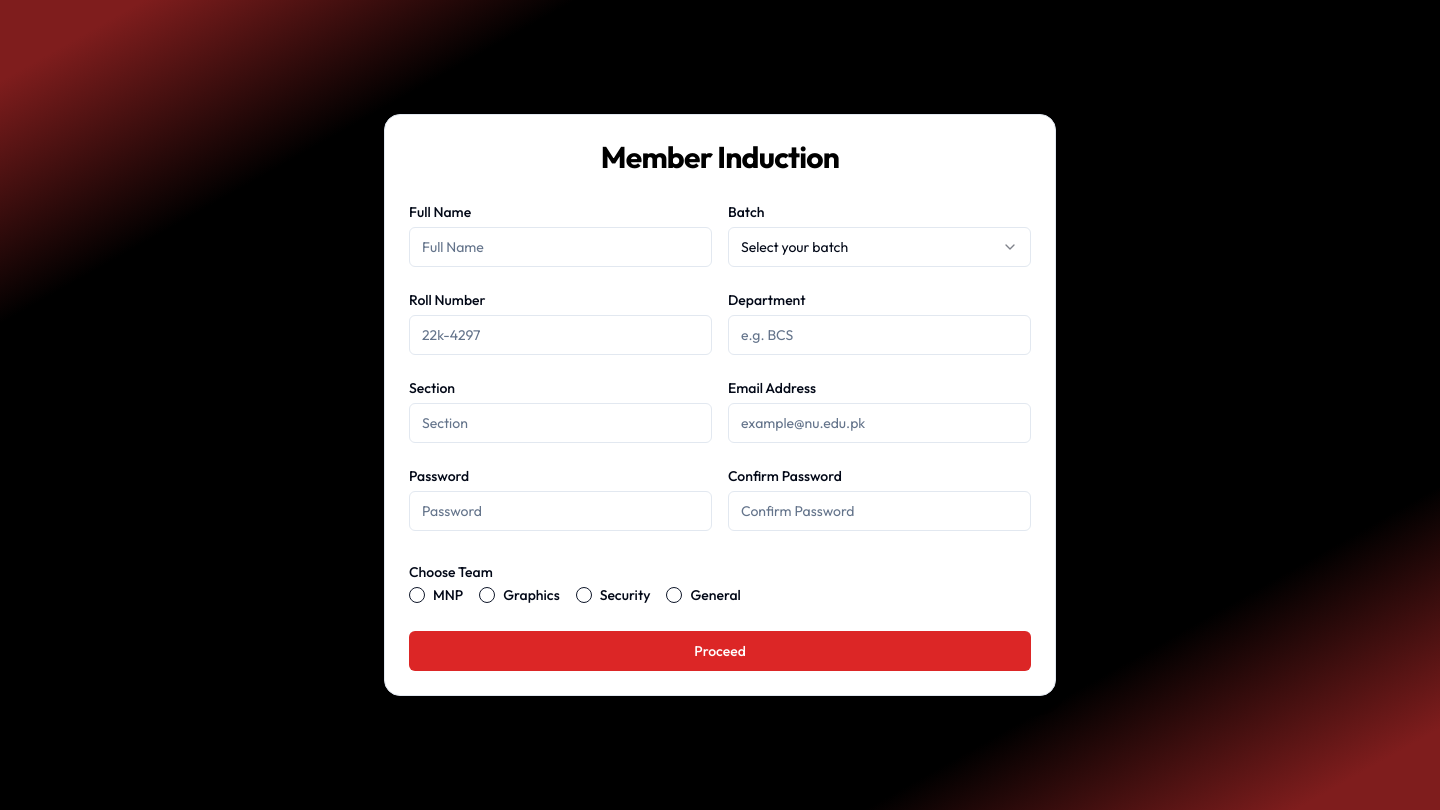
Test: Register Form Validation › should show error for invalid email domain
This screenshot has width=1440, height=810.
Type "user@gmail.com" into the field with placeholder "example@nu.edu.pk".
click(880, 423); type("user@gmail.com")  # box x1=728 y1=403 x2=1031 y2=443
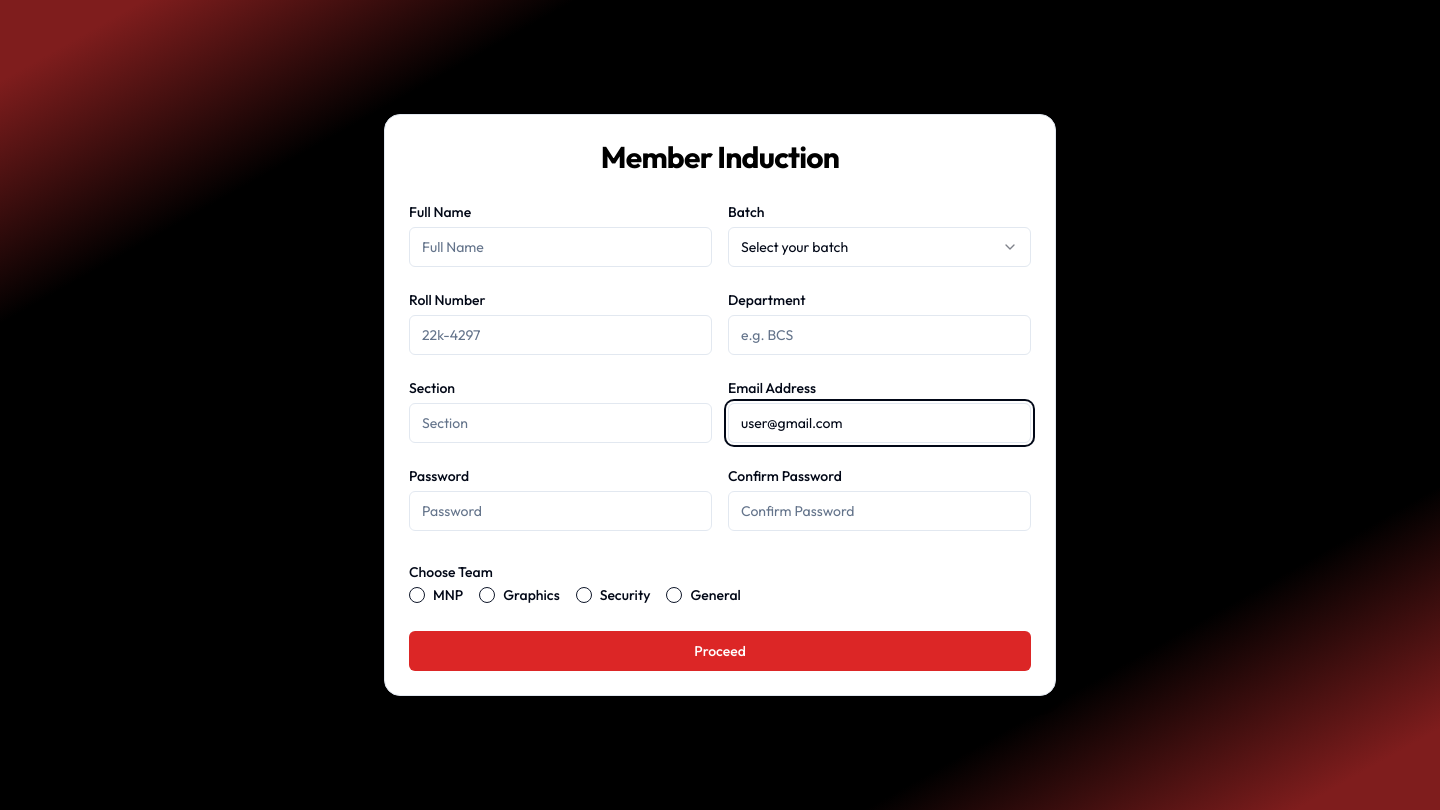
Click the button "Proceed".
click(720, 651)  # box x1=409 y1=631 x2=1031 y2=671
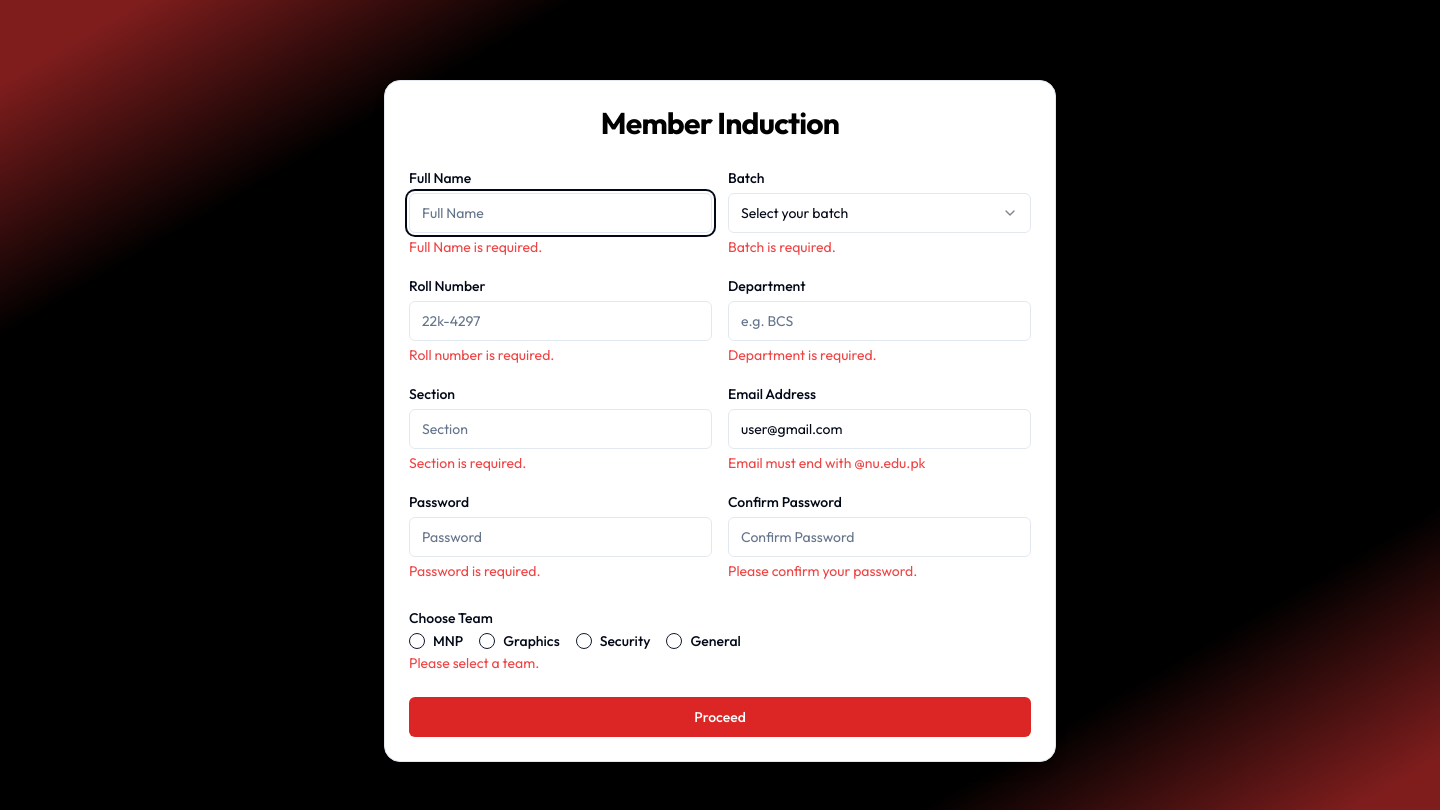
Expected: the text "Email must end with @nu.edu.pk" is shown, x1=728 y1=454 x2=926 y2=472
